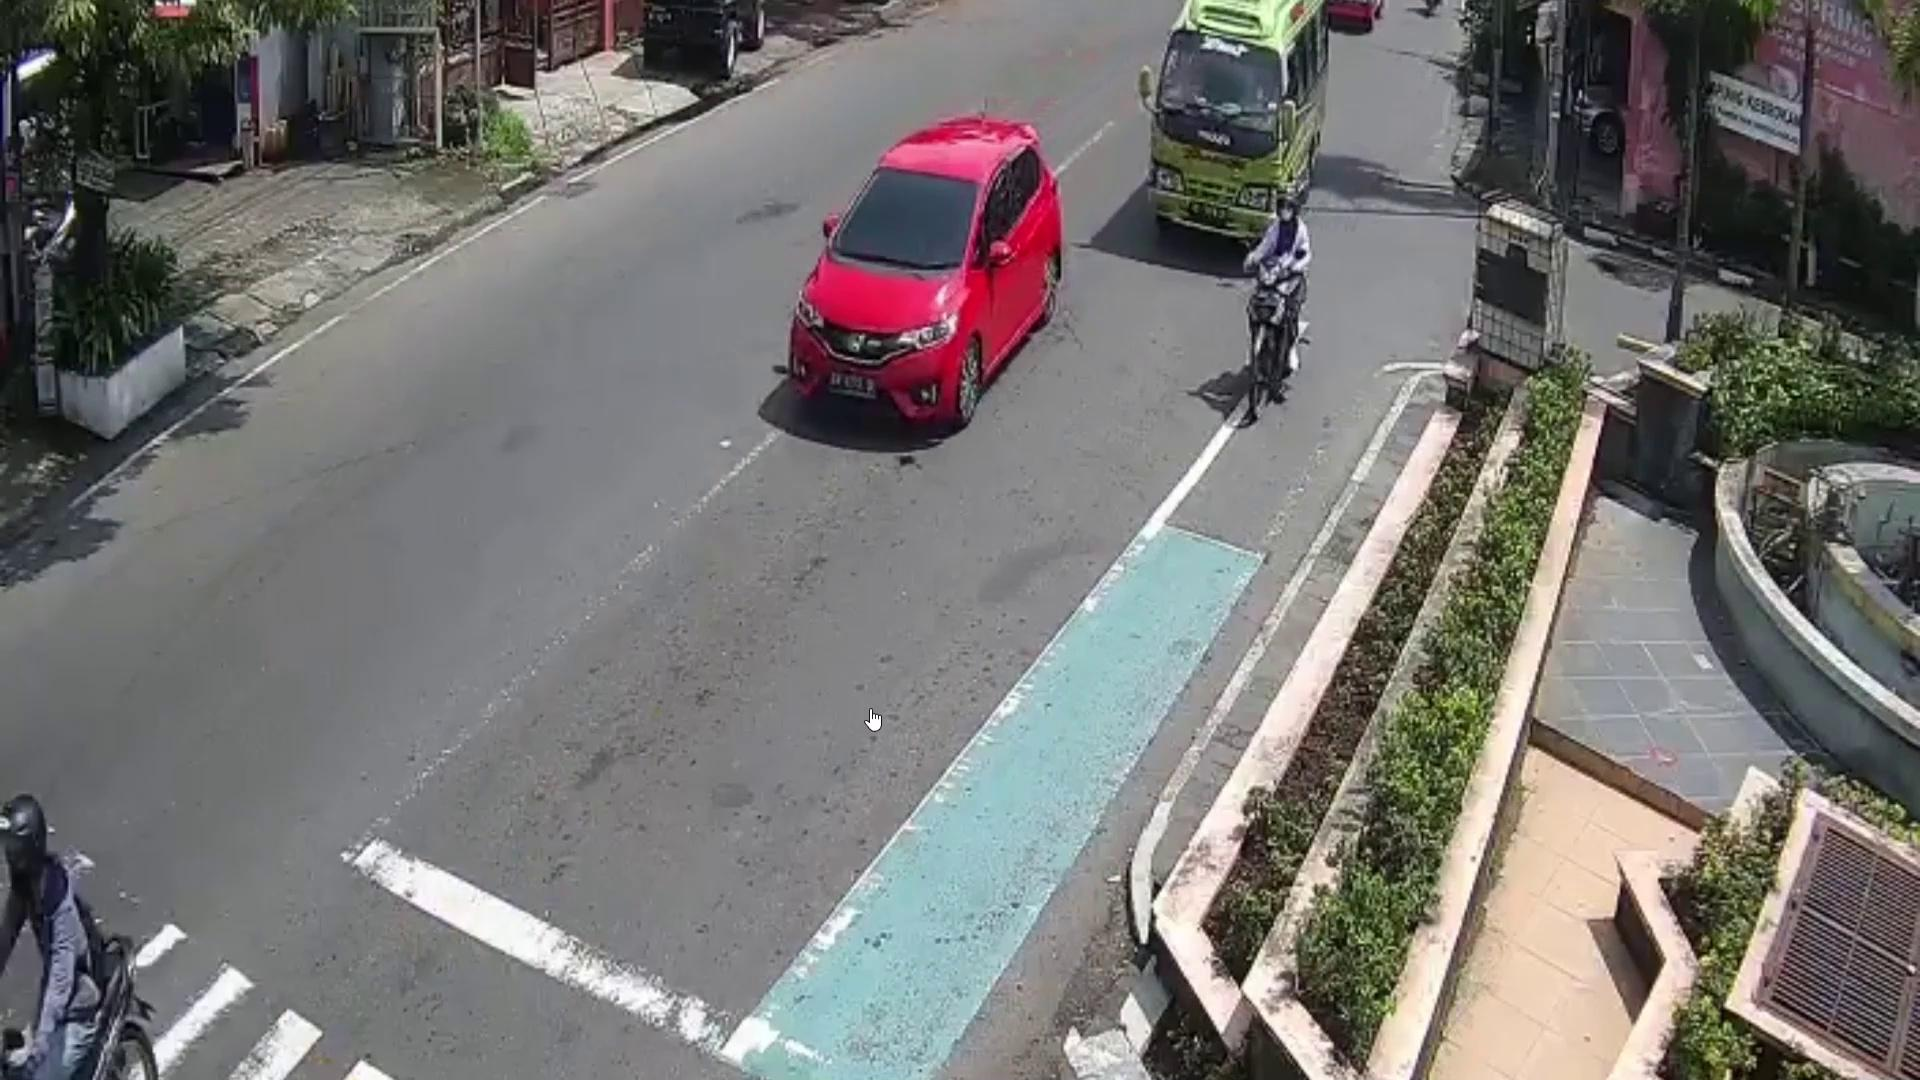bus: (1149, 0, 1325, 258)
car: (783, 115, 1068, 443)
motorbike: (1246, 261, 1311, 415)
